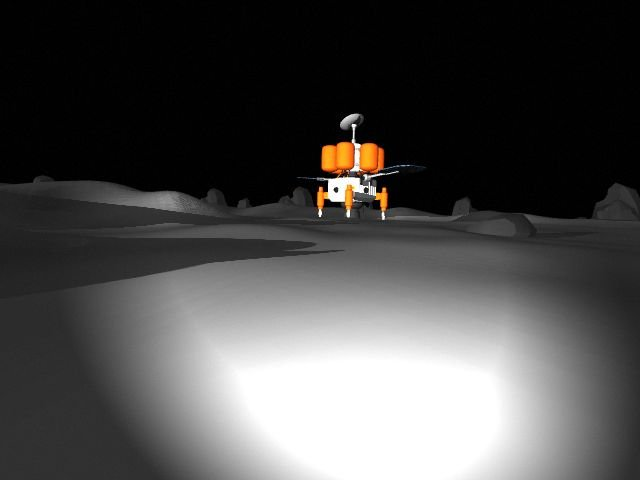homebase: (293, 111, 423, 222)
